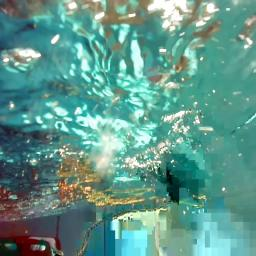Side: (0, 236, 65, 256)
